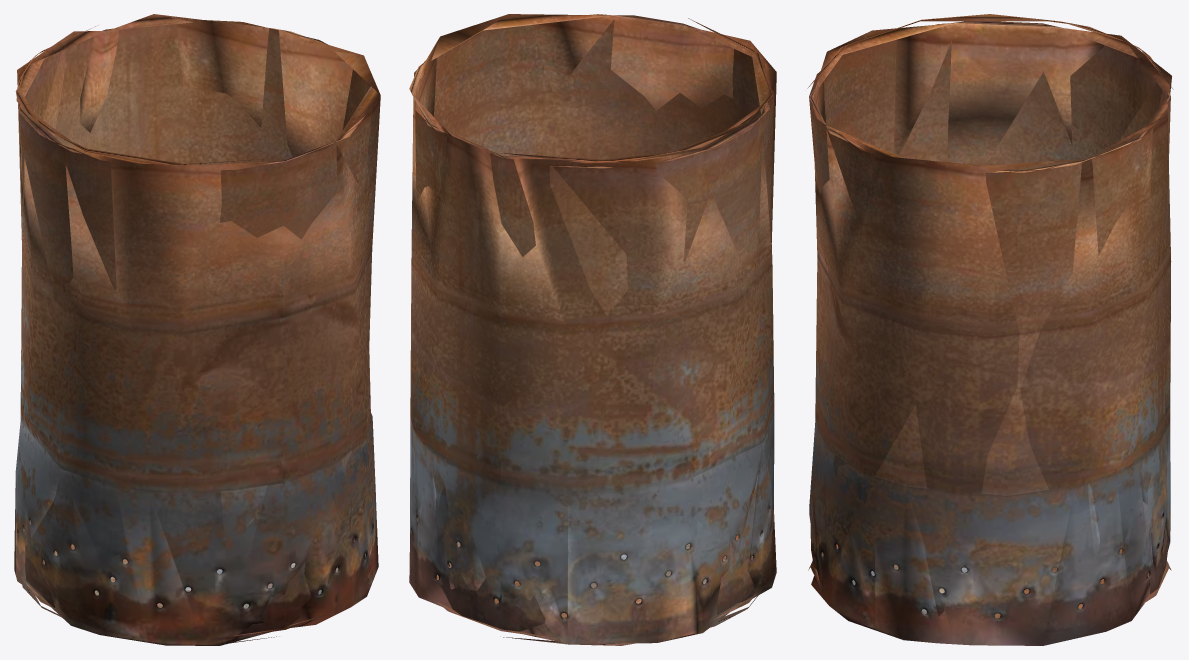
File: barrel_stove.glb
3 renders of one model, left to right at view 1: azimuth 30°, elevation 25°; view 2: azimuth 150°, elevation 25°; view 3: azimuth 270°, elevation 25°, orthographic.
Parts seen in each view (by area): view 1: barrel_stove; view 2: barrel_stove; view 3: barrel_stove.
Boxes of the visible parts, x1,y1,x2,y2 form: barrel_stove: (14,14,380,645); barrel_stove: (409,14,776,645); barrel_stove: (807,14,1173,645).
Bounding box in the file's own units: 0.5825 × 0.8539 × 0.5887.
1 material, 1 textured.
